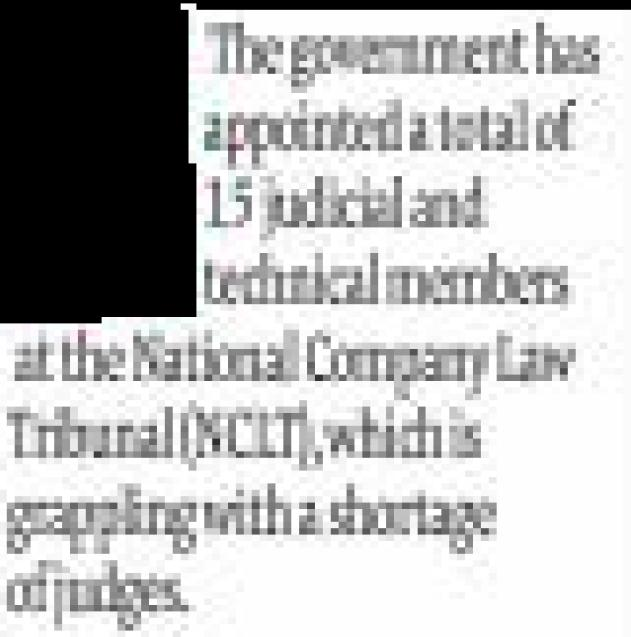paper: (0, 1, 631, 637)
